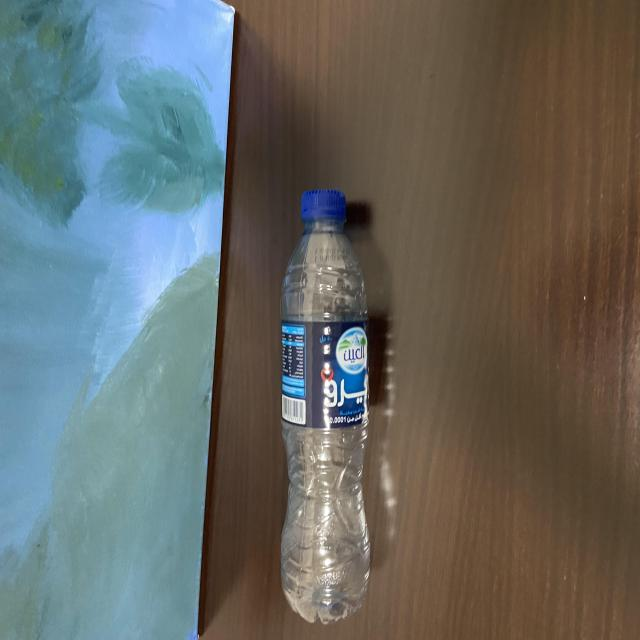plastic: (275, 186, 378, 624)
